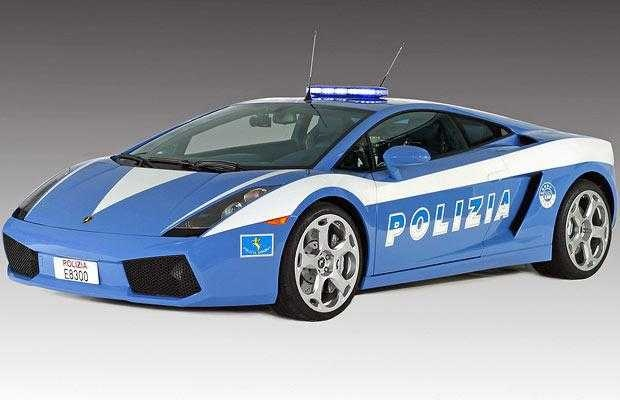Police Car: (13, 73, 617, 347)
